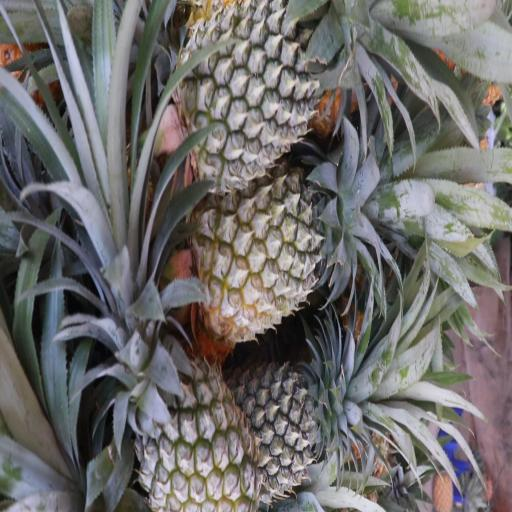------------------------------: (133, 343, 255, 512), (198, 179, 322, 337)
